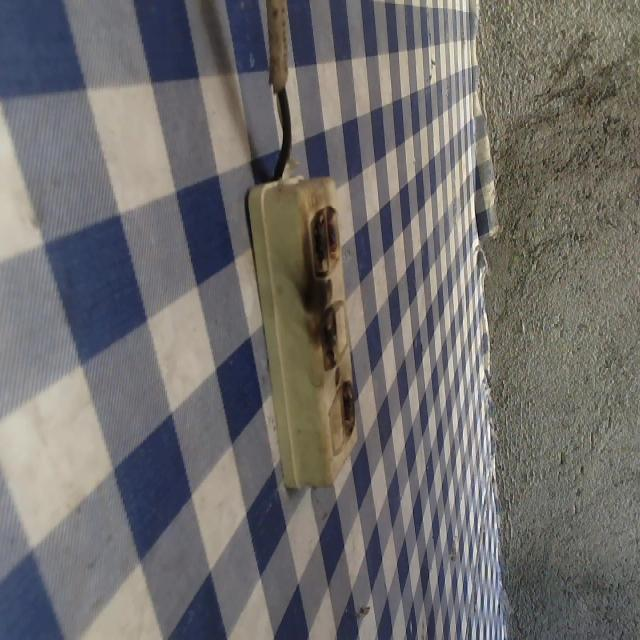-: (301, 203, 345, 284), (310, 304, 342, 373), (334, 376, 361, 447)
